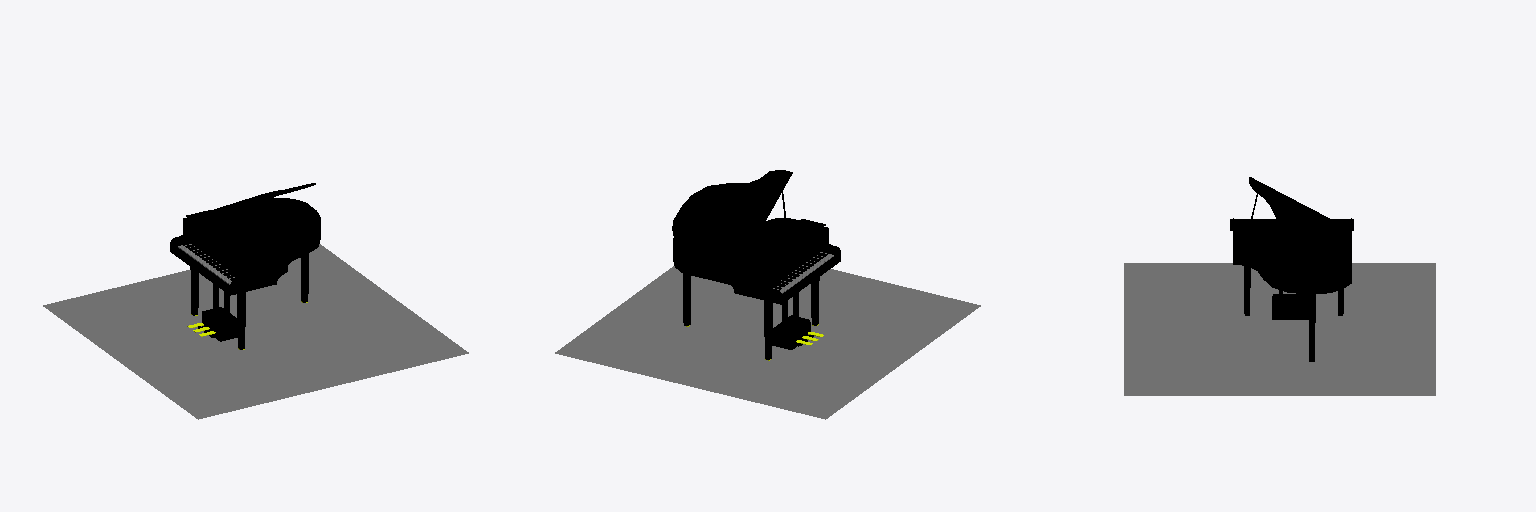
The model's file is Project.obj.
3 views of the same model, side by side, from view 1: azimuth 30°, elevation 25°; view 2: azimuth 150°, elevation 25°; view 3: azimuth 270°, elevation 25° (orthographic).
Visible parts, largest first — view 1: Floor, Piano_Base_pPlane10 Piano; view 2: Floor, Piano_Base_pPlane10 Piano; view 3: Floor, Piano_Base_pPlane10 Piano.
Part boxes in pixels (bbox=[...]): Floor: bbox=[43, 244, 468, 419]; Piano_Base_pPlane10 Piano: bbox=[170, 183, 320, 349]; Floor: bbox=[555, 266, 980, 419]; Piano_Base_pPlane10 Piano: bbox=[672, 170, 840, 360]; Floor: bbox=[1124, 263, 1435, 395]; Piano_Base_pPlane10 Piano: bbox=[1230, 177, 1353, 361].
Size of the model in its own units: 24.16 by 12.76 by 24.